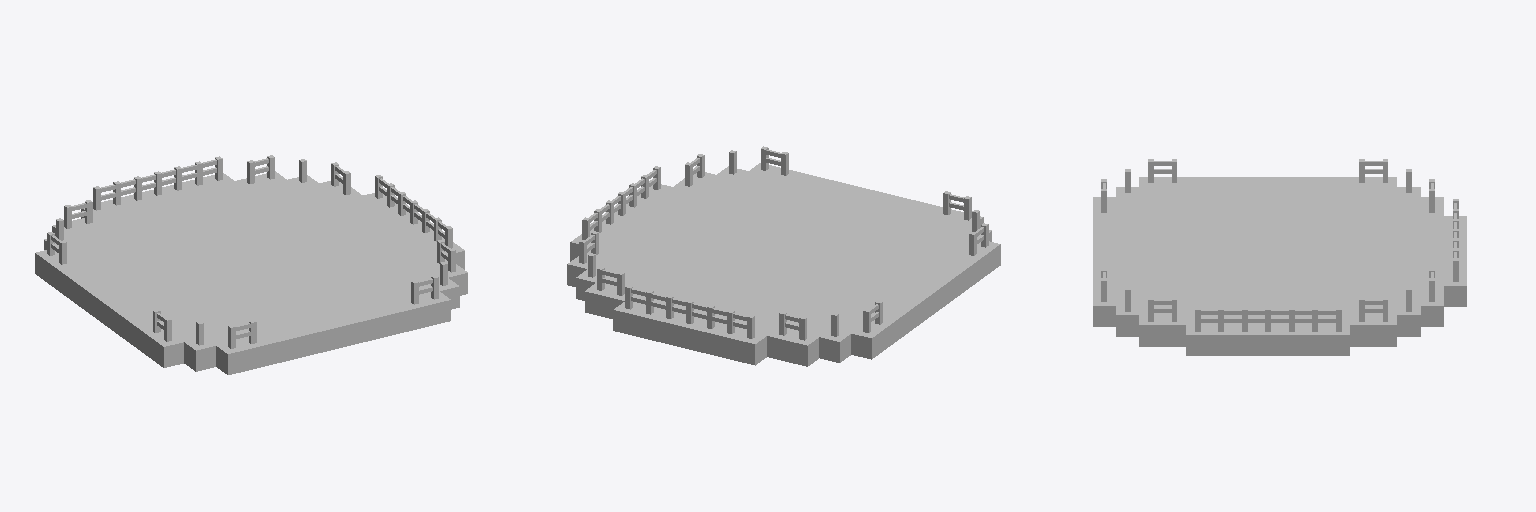
Rendered from Corner.obj.
The picture shows the model from 3 angles: view 1: azimuth 30°, elevation 25°; view 2: azimuth 150°, elevation 25°; view 3: azimuth 270°, elevation 25°; orthographic projection.
Visible parts, largest first — view 1: Unity__-54_-60_-59_to_-39_319_-44; view 2: Unity__-54_-60_-59_to_-39_319_-44; view 3: Unity__-54_-60_-59_to_-39_319_-44.
Part boxes in pixels (bbox=[...]): Unity__-54_-60_-59_to_-39_319_-44: bbox=[35, 155, 467, 374]; Unity__-54_-60_-59_to_-39_319_-44: bbox=[567, 146, 1000, 366]; Unity__-54_-60_-59_to_-39_319_-44: bbox=[1093, 159, 1466, 355].
Bounding box in the file's own units: 56 × 7 × 56.